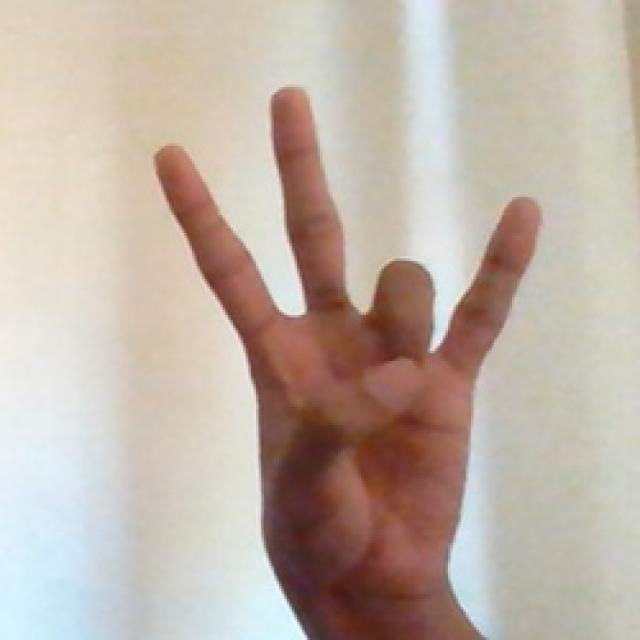Numeric-7: (147, 75, 547, 614)
